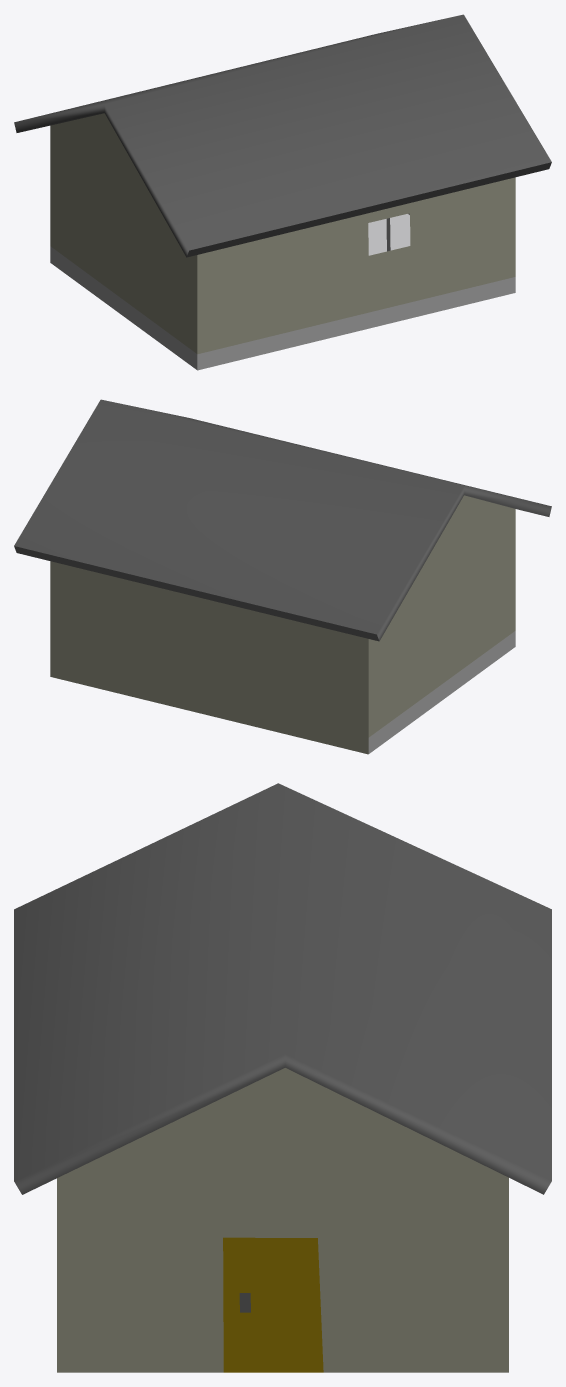
File: House4.fbx
3 renders of one model, top to bottom at view 1: azimuth 30°, elevation 25°; view 2: azimuth 150°, elevation 25°; view 3: azimuth 270°, elevation 25°, orthographic. The views are drawn at different scales.
Visible parts, largest first — view 1: House4_pCube1; view 2: House4_pCube1; view 3: House4_pCube1.
Boxes of the visible parts, x1,y1,x2,y2 form: House4_pCube1: (14,14,551,370); House4_pCube1: (14,399,551,754); House4_pCube1: (14,783,551,1372).
Size of the model in its own units: 9.12 by 5.25 by 7.62.
